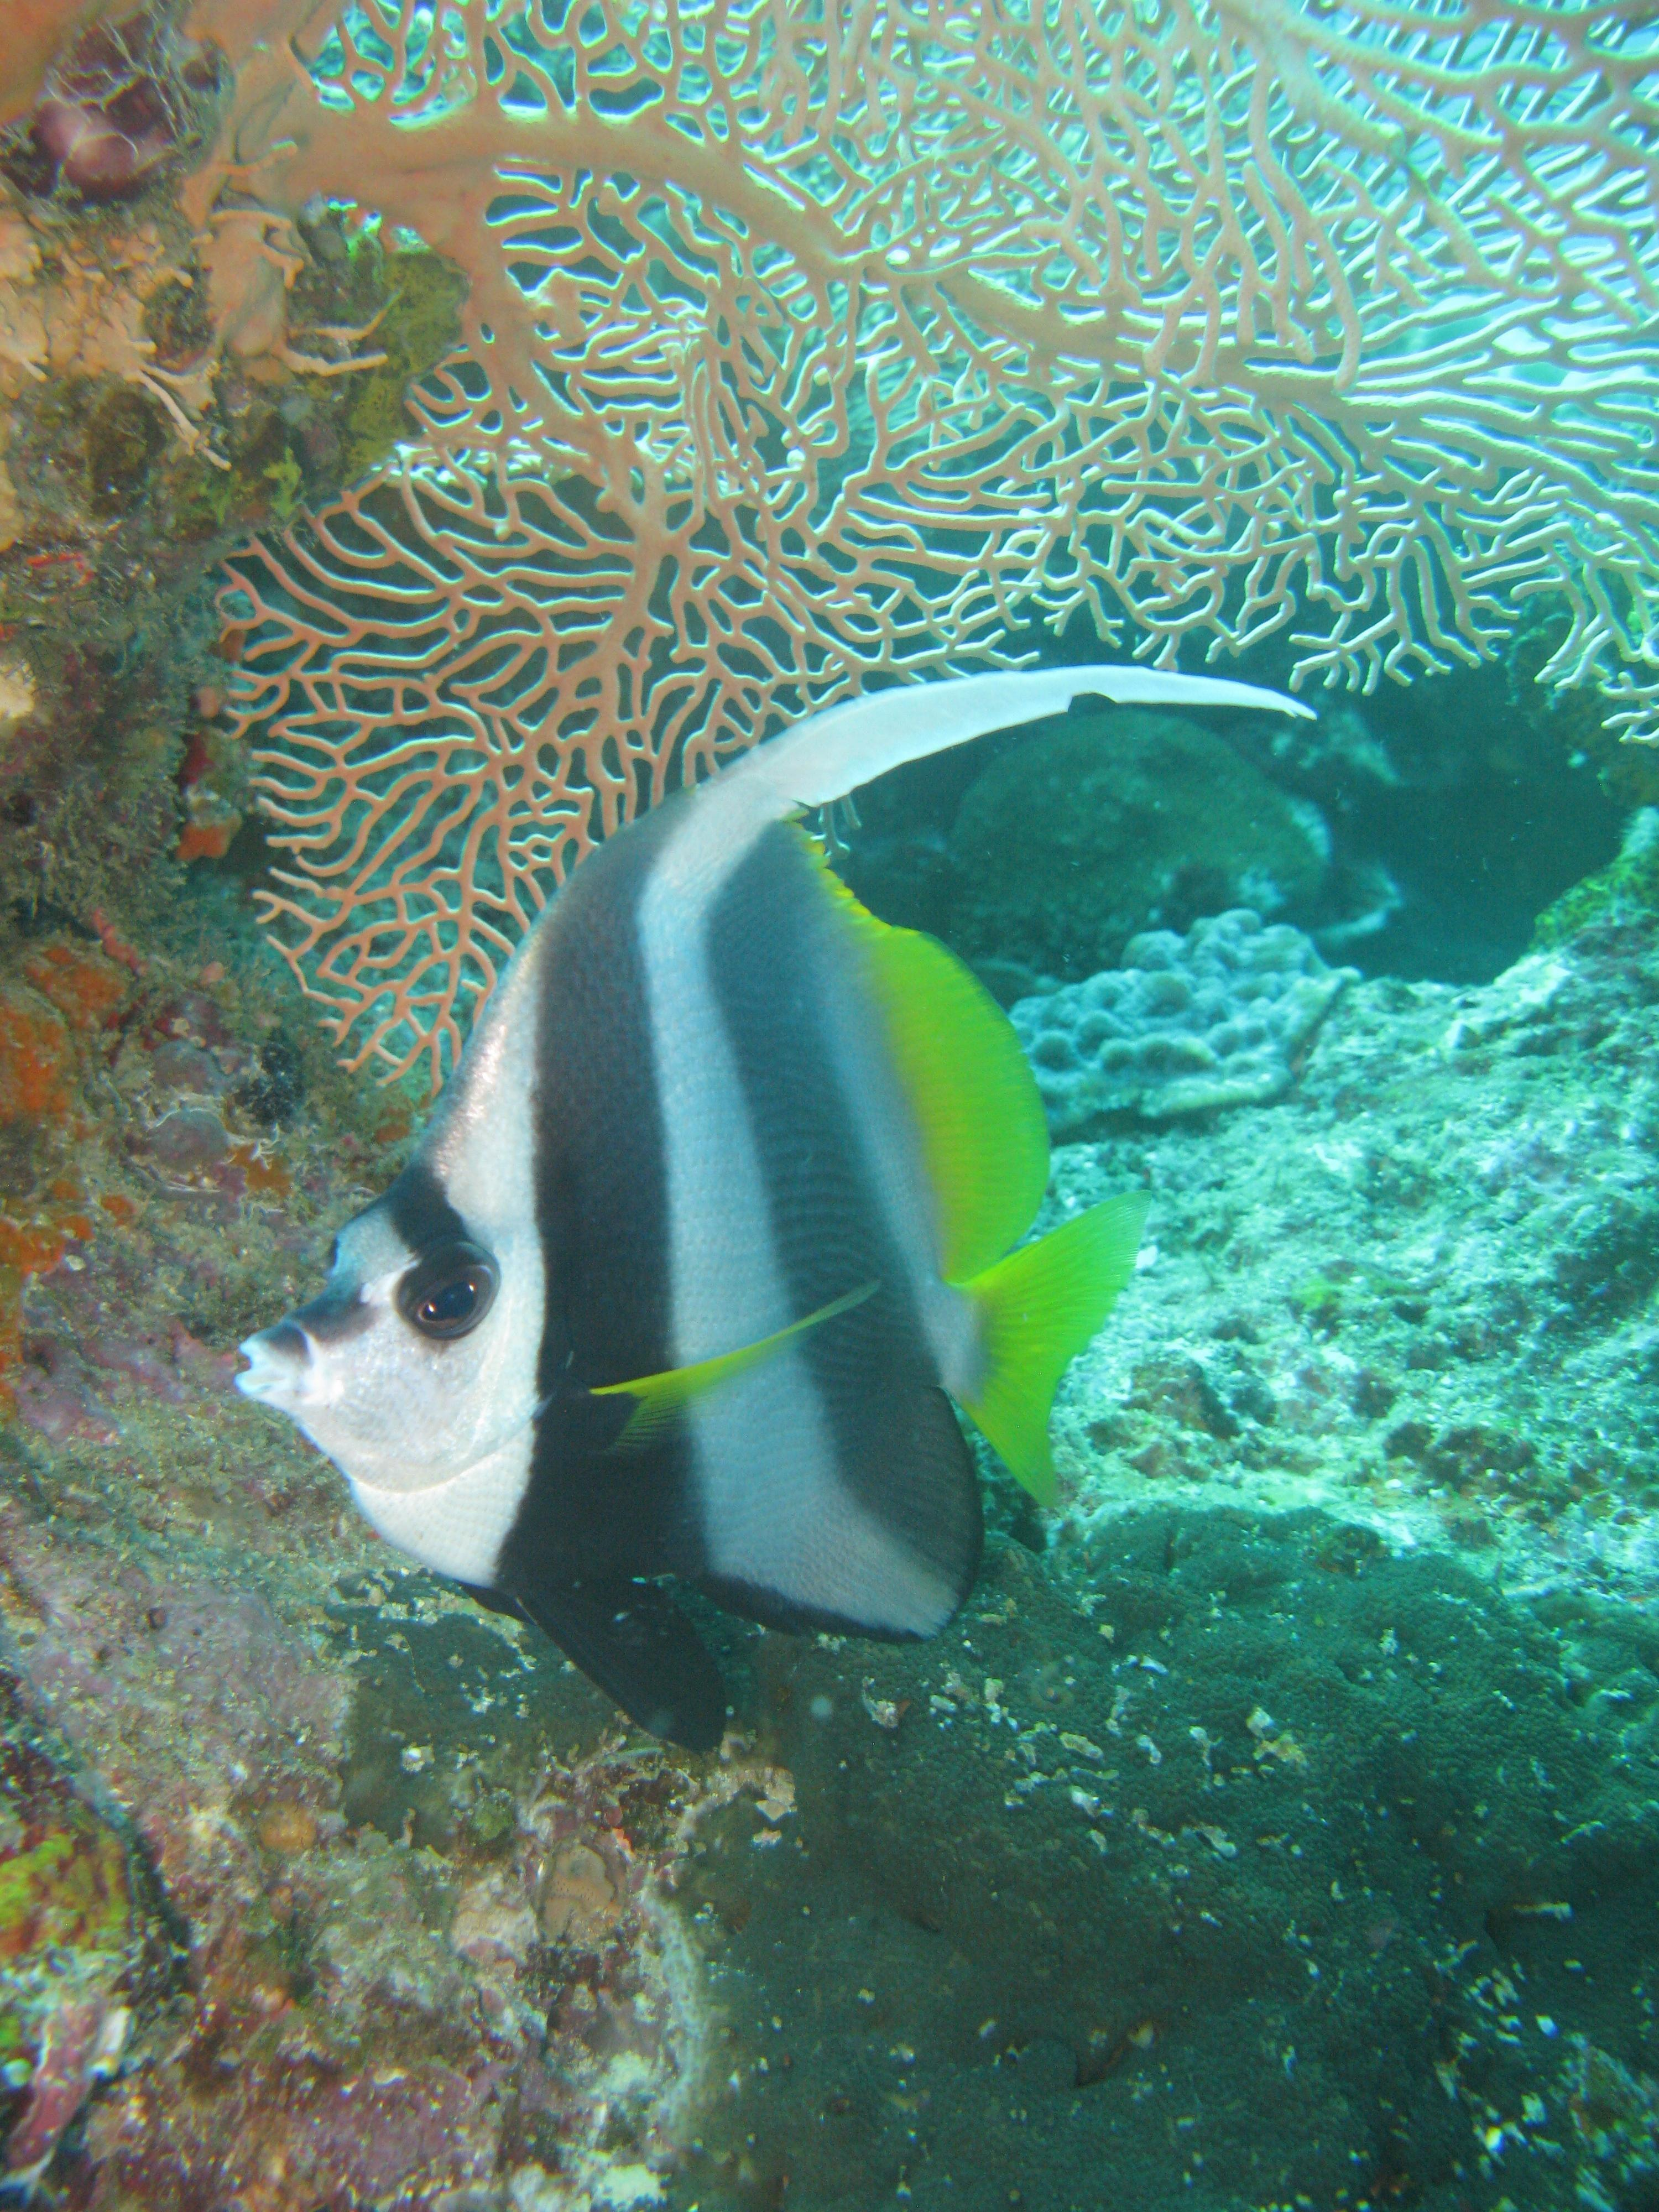Heniochus diphreutes: (44, 575, 1474, 1811)
